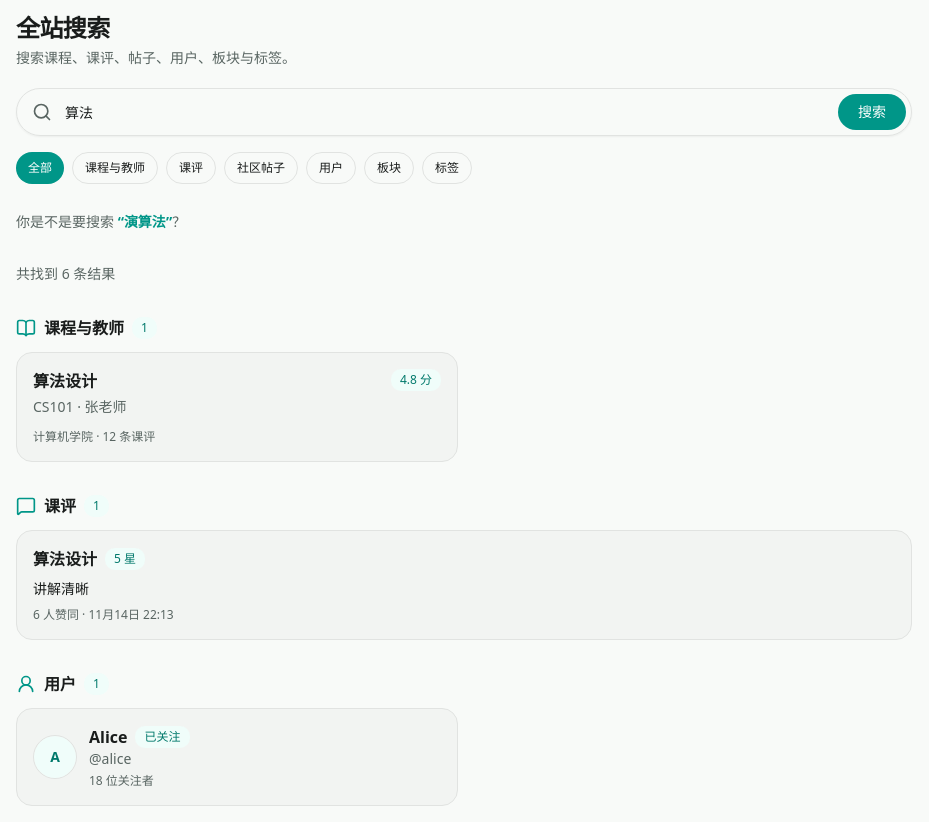
it: SearchPage › applies the privacy-safe spelling suggestion as a new search
Click the button "“演算法”".
click(145, 222)  # box [118, 212, 172, 232]
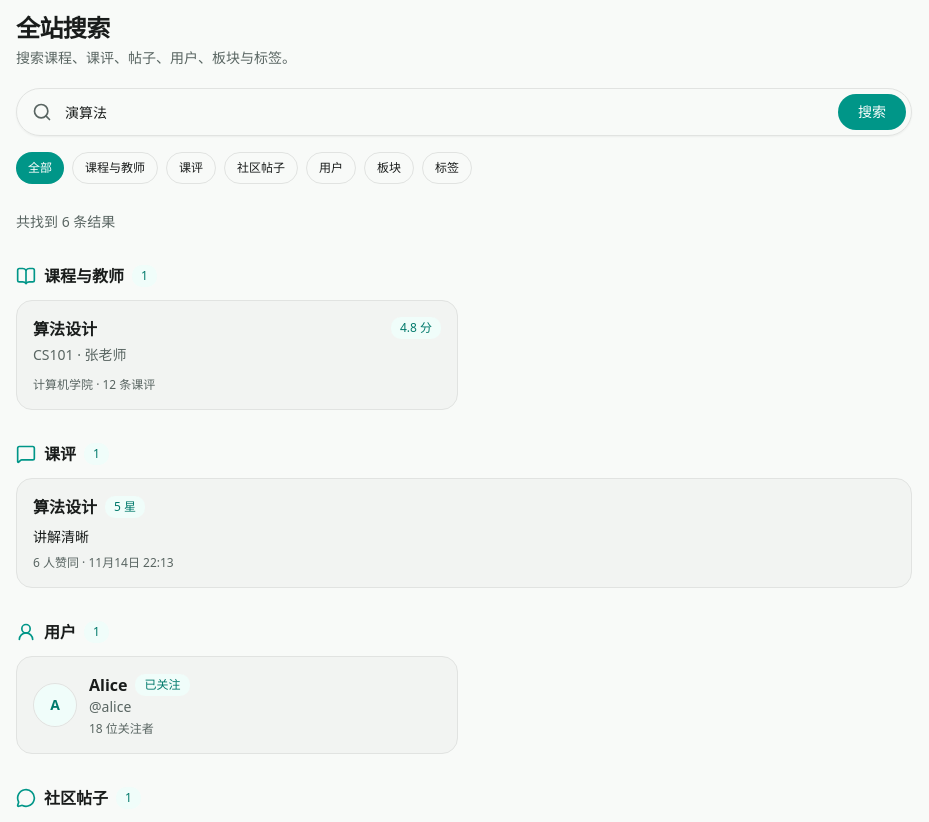
Result: the field named "全站搜索关键词" holds "演算法" at [16, 88, 912, 136]
